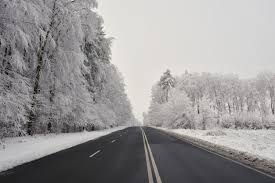strada: (0, 128, 275, 183)
